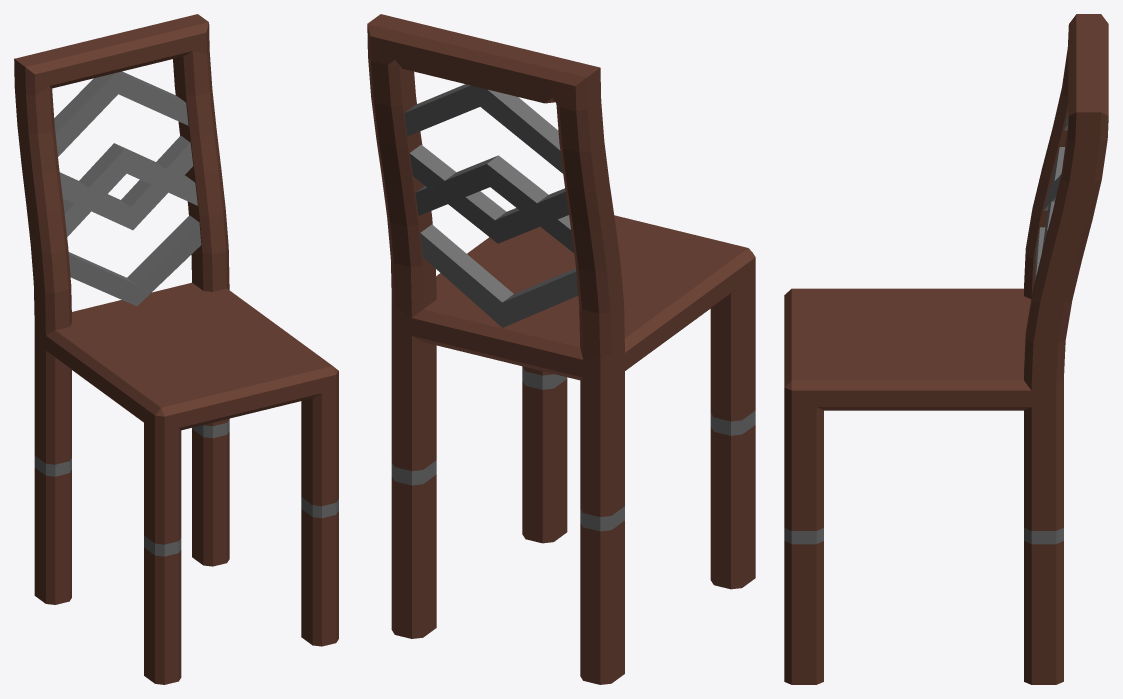
Rendered from Farmi_Tuoli.fbx.
The picture shows the model from 3 angles, left to right: view 1: azimuth 30°, elevation 25°; view 2: azimuth 150°, elevation 25°; view 3: azimuth 270°, elevation 25°; orthographic projection. The views are drawn at different scales.
Parts seen in each view (by area): view 1: Tuoli; view 2: Tuoli; view 3: Tuoli.
Part boxes in pixels (<box>): Tuoli: <box>14,14,338,684</box>; Tuoli: <box>367,14,755,684</box>; Tuoli: <box>784,14,1108,684</box>.
Bounding box in the file's own units: 35 × 94.98 × 48.8.
